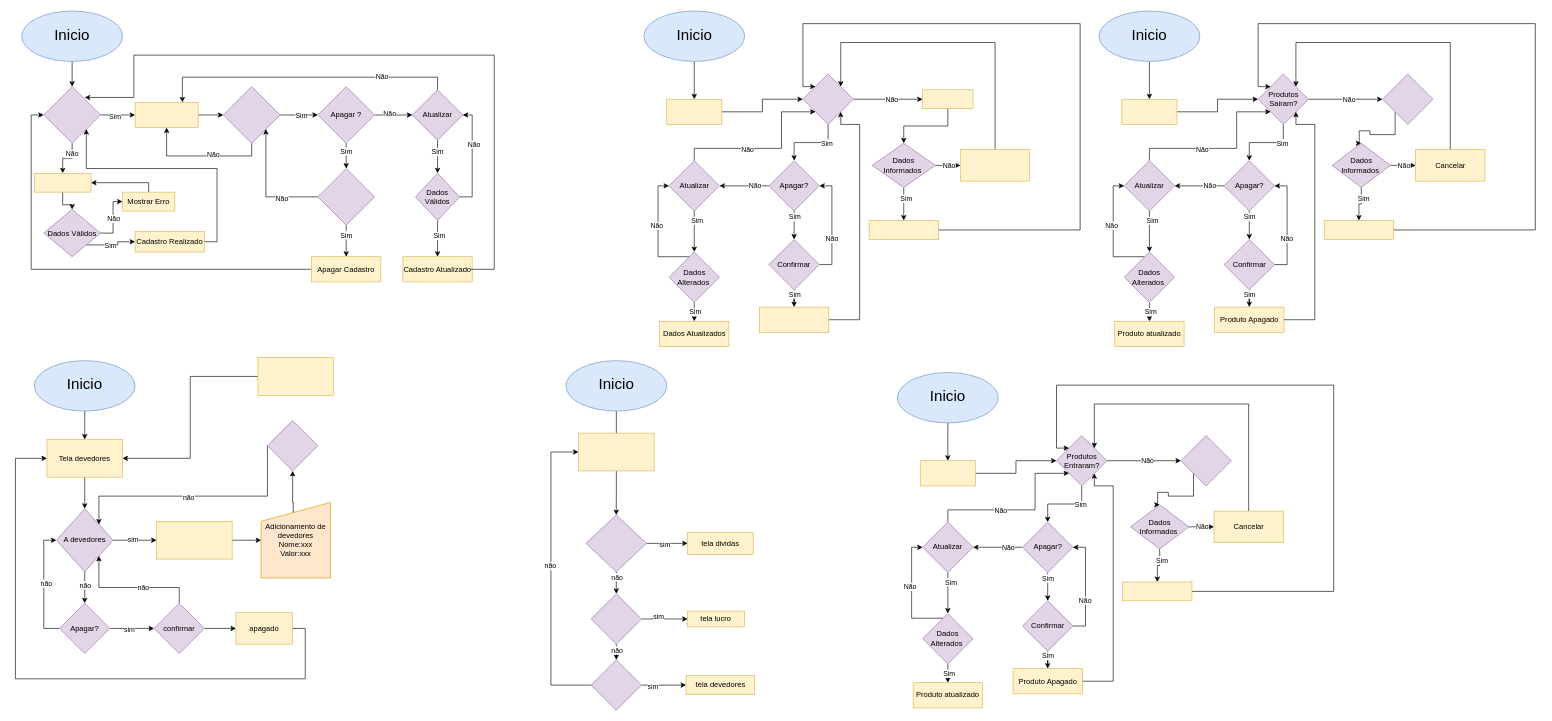
This 1552x721 diagram has some shape labels left out. The shapes that lost their labels are listed below. From the top down, each one's centre as x and y in pixels, then its label:
At point (71, 114): "Tem Cadastro?".
At point (166, 115): "Buscar Cadastro".
At point (251, 114): "Cadastro Encontrado".
At point (694, 111): "A ver".
At point (827, 98): "Tem a ver?".
At point (947, 99): "Adicionar".
At point (1149, 111): "tela Saída".
At point (1407, 98): "Adicionar Saída?".
At point (62, 182): "Cadastrar".
At point (995, 165): "Adicionar Informações".
At point (346, 196): "Confirmação ?".
At point (903, 229): "A ver adicionado".
At point (1359, 229): "Saída Confirmada".
At point (794, 319): "A ver apagado".
At point (295, 376): "devedores adicionados".
At point (292, 445): "Confirmar?".
At point (616, 451): "Tela Inicial".
At point (1205, 460): "Adicionar produto?".
At point (947, 473): "tela Entrada".
At point (194, 540): "Adicionar de devedores".
At point (616, 543): "ir tela dividas?".
At point (1157, 591): "Entrada adicionada".
At point (616, 618): "ir tela lucros".
At point (616, 684): "ir tela devedores".
